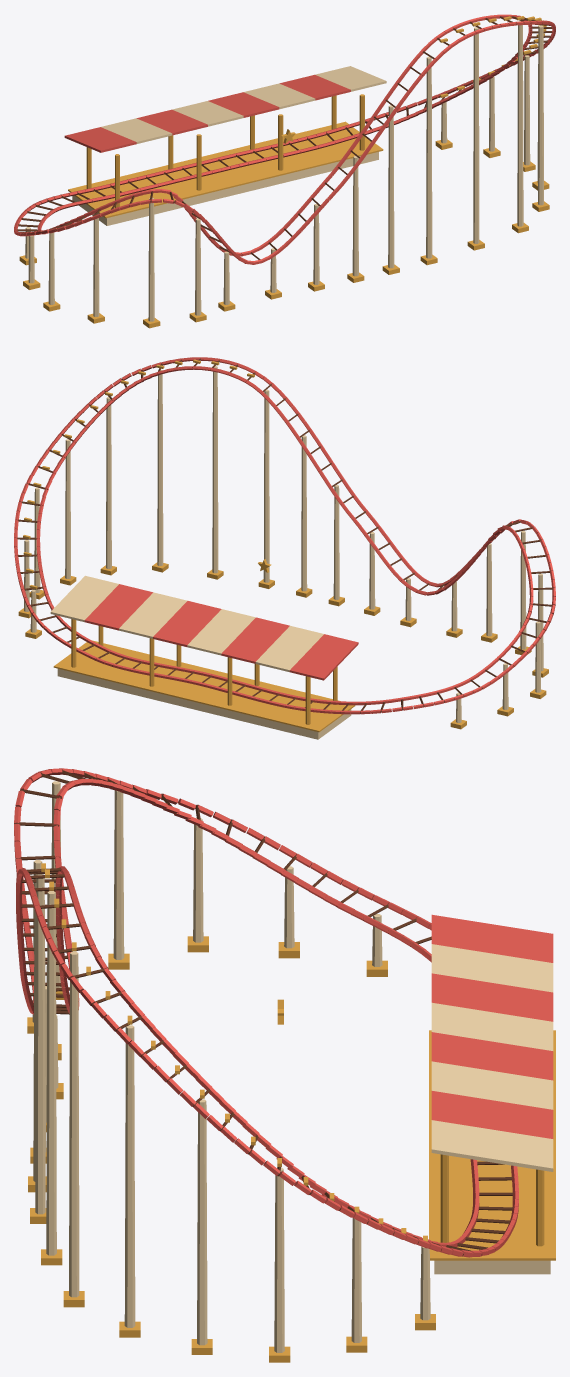
The model's file is ParkParkCoasterTrack.obj.
3 renders of one model, top to bottom at view 1: azimuth 30°, elevation 25°; view 2: azimuth 150°, elevation 25°; view 3: azimuth 270°, elevation 25°, orthographic. The views are drawn at different scales.
Parts seen in each view (by area): view 1: ParkParkCoasterTrack; view 2: ParkParkCoasterTrack; view 3: ParkParkCoasterTrack.
Boxes of the visible parts, x1,y1,x2,y2 form: ParkParkCoasterTrack: [14, 14, 555, 328]; ParkParkCoasterTrack: [14, 357, 555, 739]; ParkParkCoasterTrack: [14, 768, 555, 1362].
Size of the model in its own units: 38.45 by 15.71 by 20.49.
